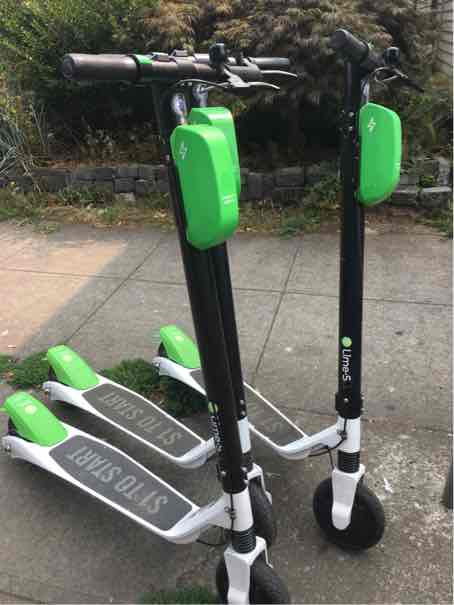scooter: (4, 44, 299, 603), (135, 19, 430, 557), (38, 19, 298, 559)
